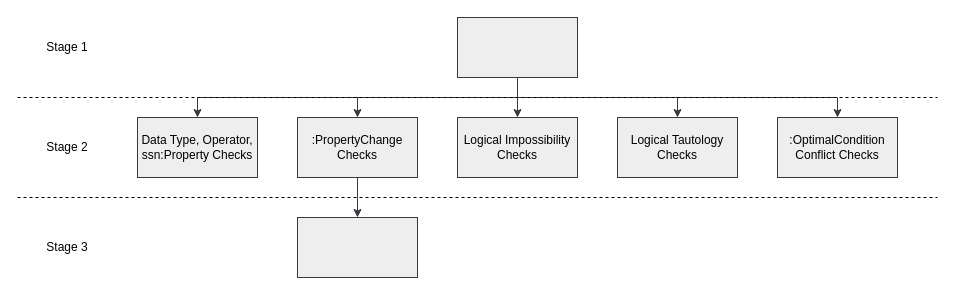
Image size: 956x295. Some labels were removed from this diagram. The shapes that lost their labels are listed below. From the top down, each one's centre as x and y in pixels, then its label:
At point (517, 47): ":OptimalCondition Marking".
At point (357, 247): "sosa:Actuator Checks".
